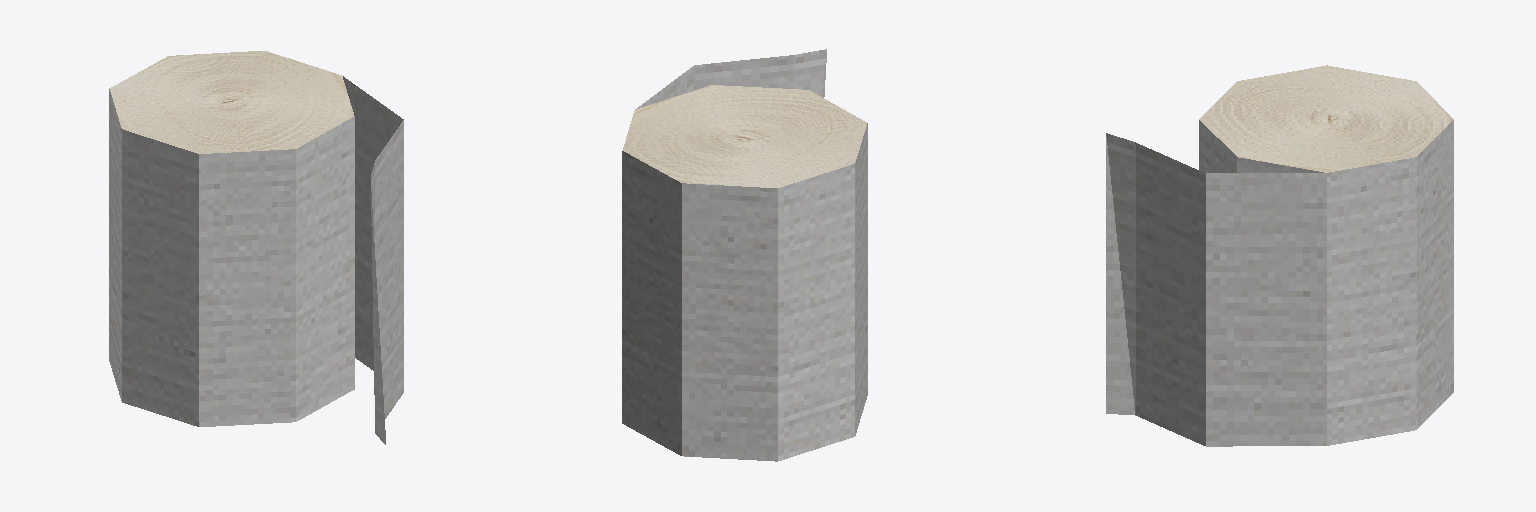
3 views of the same model, side by side, from view 1: azimuth 30°, elevation 25°; view 2: azimuth 150°, elevation 25°; view 3: azimuth 270°, elevation 25° (orthographic).
Parts seen in each view (by area): view 1: Cube; view 2: Cube; view 3: Cube.
Boxes of the visible parts, box(x1,y1,x2,y2) form: Cube: box(109, 51, 403, 444); Cube: box(622, 49, 867, 461); Cube: box(1106, 65, 1453, 446).
Size of the model in its own units: 1.23 by 1.45 by 1.67.
Materials: 1 (1 with a texture image).